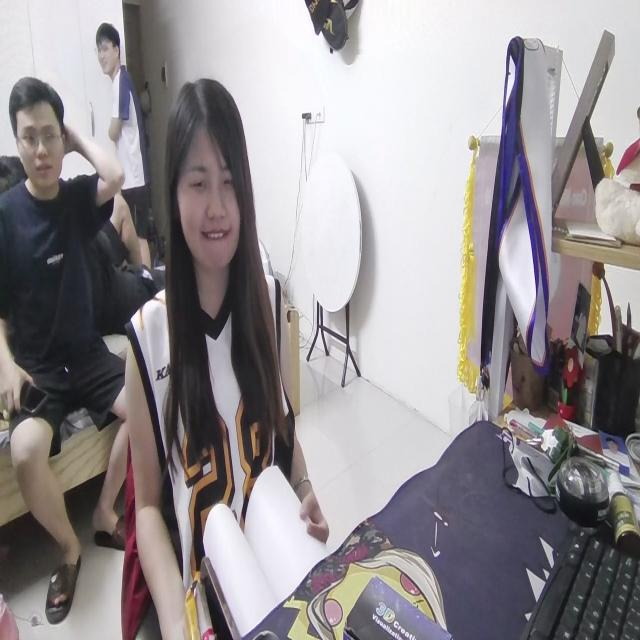book: (202, 459, 331, 631)
extra_person: (0, 68, 135, 599), (94, 22, 146, 235)
student: (121, 72, 331, 640)
